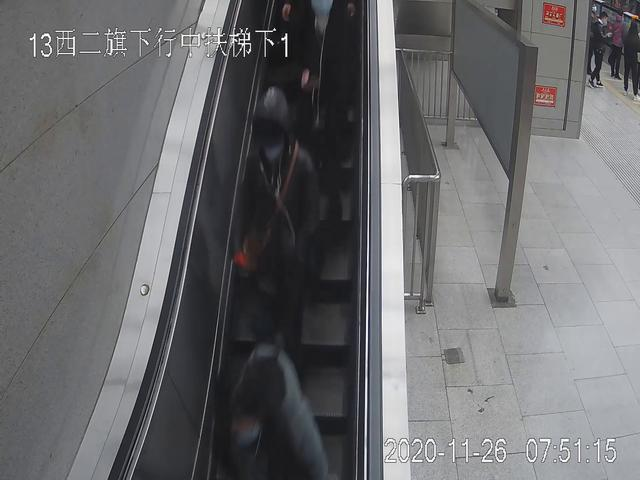person: (241, 81, 320, 366), (278, 1, 358, 223), (587, 10, 607, 91), (609, 10, 625, 78)
